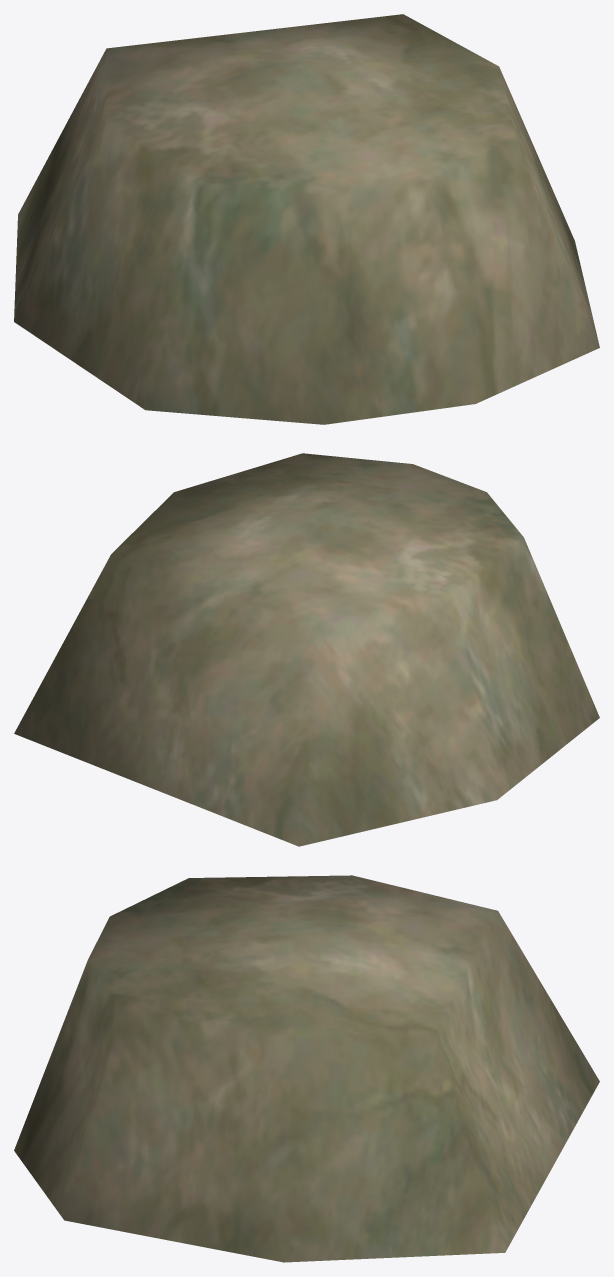
Rendered from EKH_JAIL_PS_JA_LADDER_CAVE_CAP.fbx.
3 views of the same model, one above another, from view 1: azimuth 30°, elevation 25°; view 2: azimuth 150°, elevation 25°; view 3: azimuth 270°, elevation 25° (orthographic). The views are drawn at different scales.
Parts seen in each view (by area): view 1: EKH_JAIL_PS_JA_LADDER_CAVE_CAP; view 2: EKH_JAIL_PS_JA_LADDER_CAVE_CAP; view 3: EKH_JAIL_PS_JA_LADDER_CAVE_CAP.
Part boxes in pixels (x1,y1,x2,y2): EKH_JAIL_PS_JA_LADDER_CAVE_CAP: (14, 14, 599, 424); EKH_JAIL_PS_JA_LADDER_CAVE_CAP: (14, 453, 599, 846); EKH_JAIL_PS_JA_LADDER_CAVE_CAP: (14, 875, 599, 1262).
Bounding box in the file's own units: 9347 × 4014 × 9921.
Materials: 1 (1 with a texture image).
